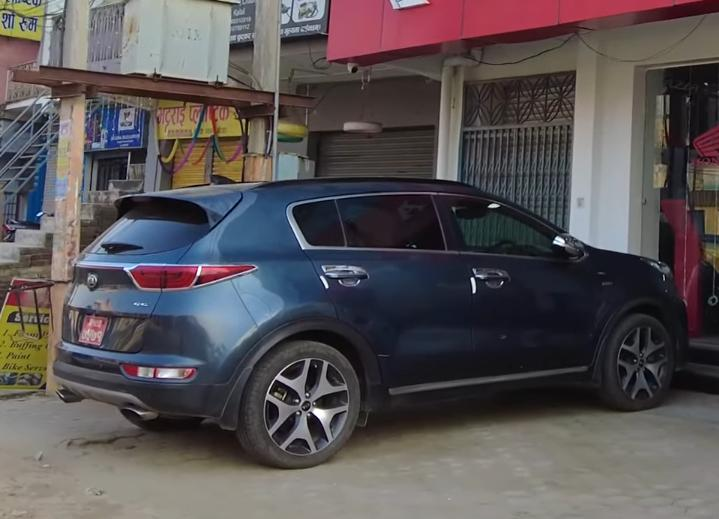car: (53, 174, 691, 473)
